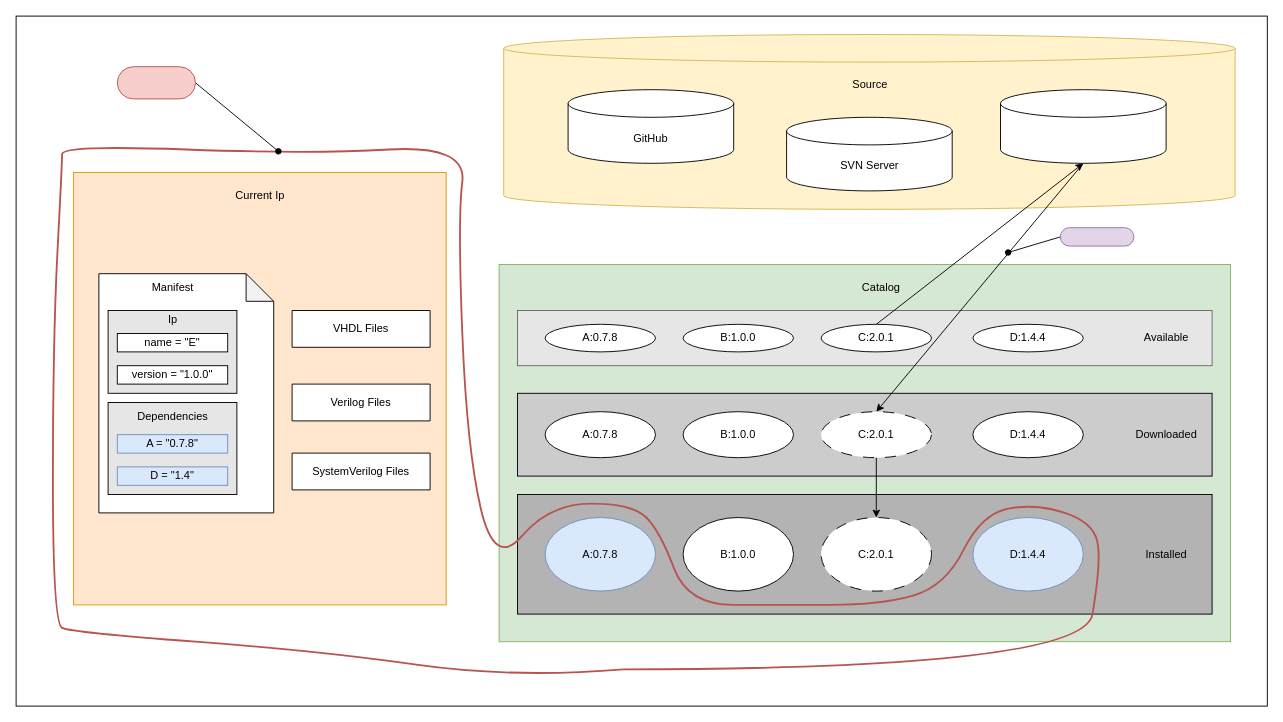
Some shapes in this 1283 by 722 pixel diagram are drawn without their labels. The shapes that lost their labels are listed below. From the top down, each one's centre as x and y in pixels, then its label:
At point (156, 82): "Current Ip's Field of View".
At point (1083, 126): "GitLab".
At point (1096, 236): "Protocol".
